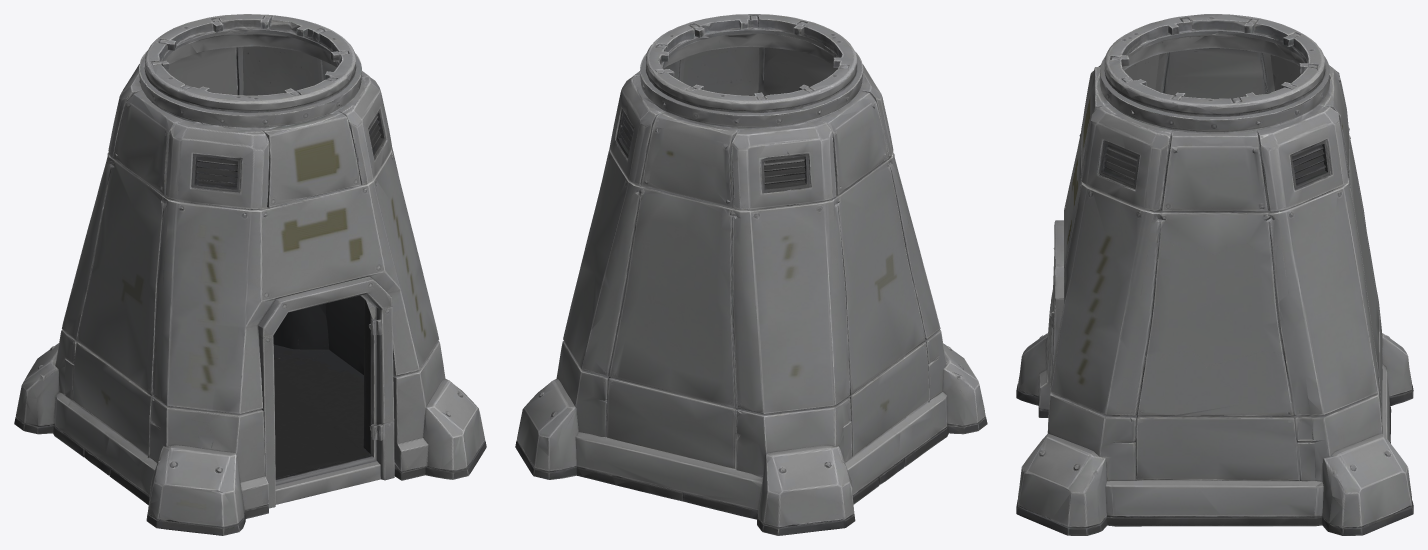
The model's file is shared_flak_tower_compact_option.glb.
The picture shows the model from 3 angles, left to right: view 1: azimuth 30°, elevation 25°; view 2: azimuth 150°, elevation 25°; view 3: azimuth 270°, elevation 25°; orthographic projection. The views are drawn at different scales.
Visible parts, largest first — view 1: mesh_node; view 2: mesh_node; view 3: mesh_node.
Boxes of the visible parts, box(x1,y1,x2,y2) form: mesh_node: box(14, 14, 486, 535); mesh_node: box(515, 14, 987, 535); mesh_node: box(1016, 14, 1413, 535).
Size of the model in its own units: 4.88 by 5.33 by 4.88.
1 material, 1 textured.
